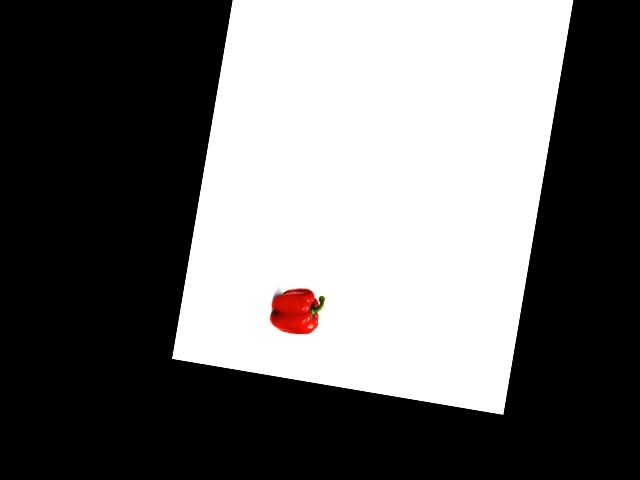bell_pepper: (266, 283, 327, 339)
